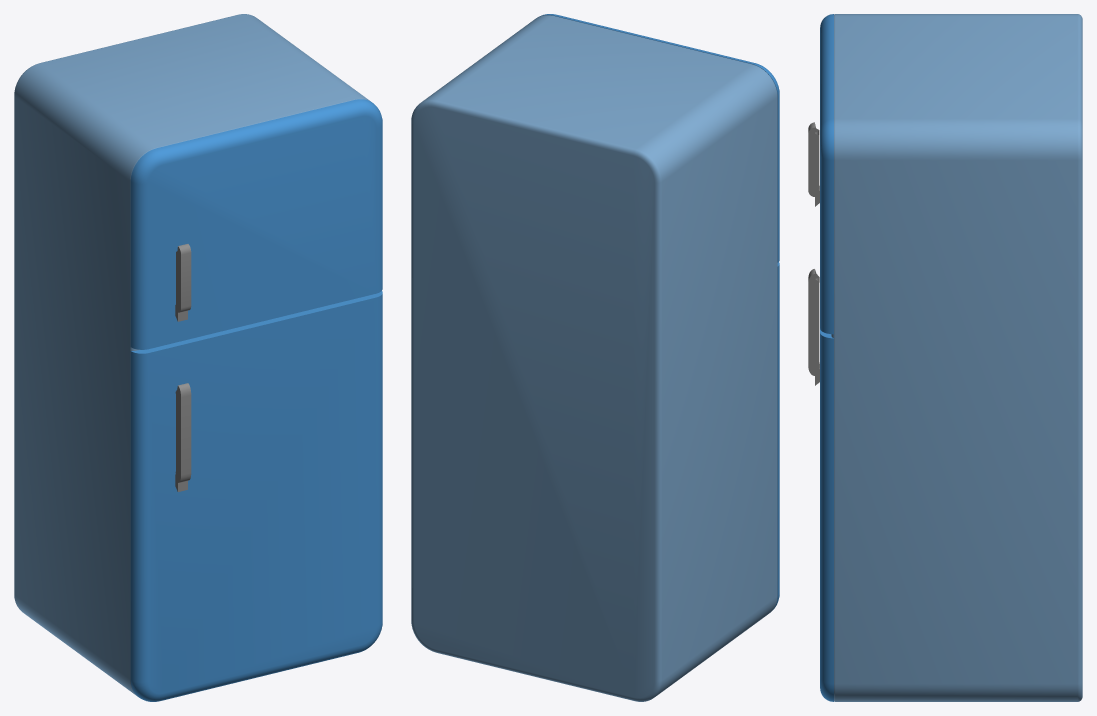
File: Refrigerator.fbx
3 renders of one model, left to right at view 1: azimuth 30°, elevation 25°; view 2: azimuth 150°, elevation 25°; view 3: azimuth 270°, elevation 25°, orthographic. The views are drawn at different scales.
Parts seen in each view (by area): view 1: Cube.001, Cube, Plane.001, Plane; view 2: Cube, Cube.001; view 3: Cube, Cube.001, Plane.001, Plane.
Part boxes in pixels (bbox=[...]): Cube.001: bbox=[130, 99, 382, 701]; Cube: bbox=[14, 14, 370, 696]; Plane.001: bbox=[175, 383, 191, 491]; Plane: bbox=[175, 244, 191, 321]; Cube: bbox=[411, 15, 777, 701]; Cube.001: bbox=[539, 14, 779, 610]; Cube: bbox=[831, 14, 1082, 701]; Cube.001: bbox=[820, 14, 833, 701]; Plane.001: bbox=[808, 269, 819, 385]; Plane: bbox=[808, 122, 819, 206].
Bounding box in the file's own units: 138 × 291 × 125.
